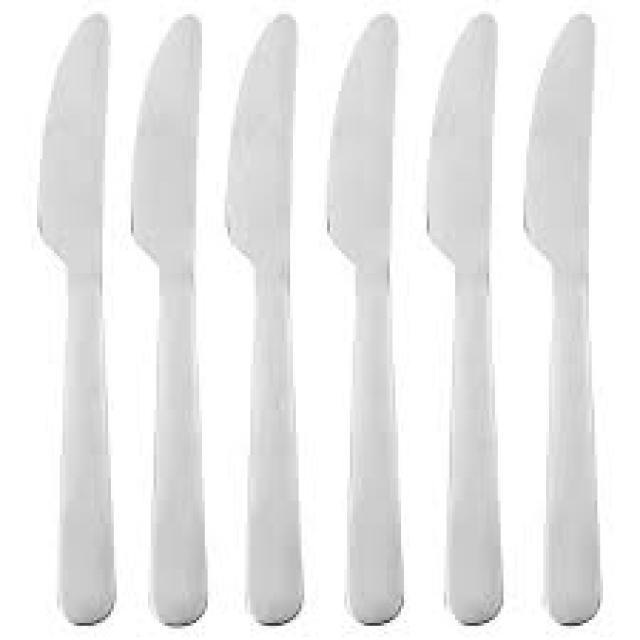knives: (25, 2, 128, 625)
